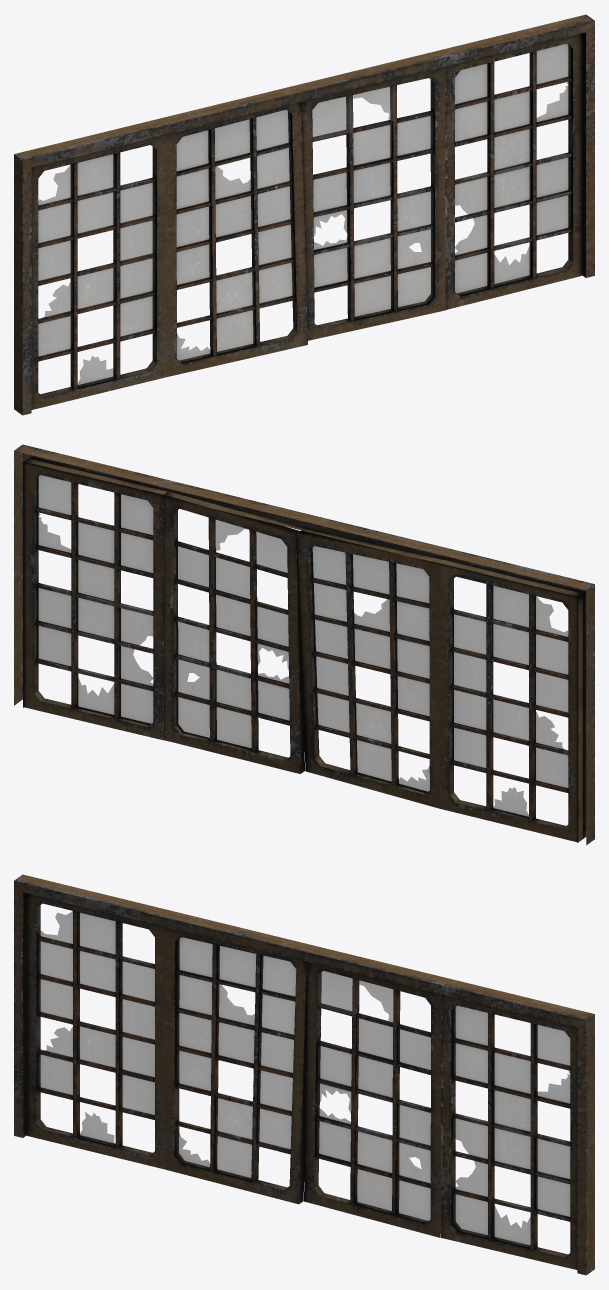
The model's file is BalconyDoors.FBX.
3 views of the same model, one above another, from view 1: azimuth 30°, elevation 25°; view 2: azimuth 150°, elevation 25°; view 3: azimuth 330°, elevation 25° (orthographic).
Parts seen in each view (by area): view 1: BalconyDoors; view 2: BalconyDoors; view 3: BalconyDoors.
Boxes of the visible parts, box(x1,y1,x2,y2) form: BalconyDoors: box(14, 14, 594, 415); BalconyDoors: box(14, 444, 594, 845); BalconyDoors: box(14, 874, 594, 1275).
Bounding box in the file's own units: 575 × 245 × 20.77.
Materials: 2 (2 with a texture image).
